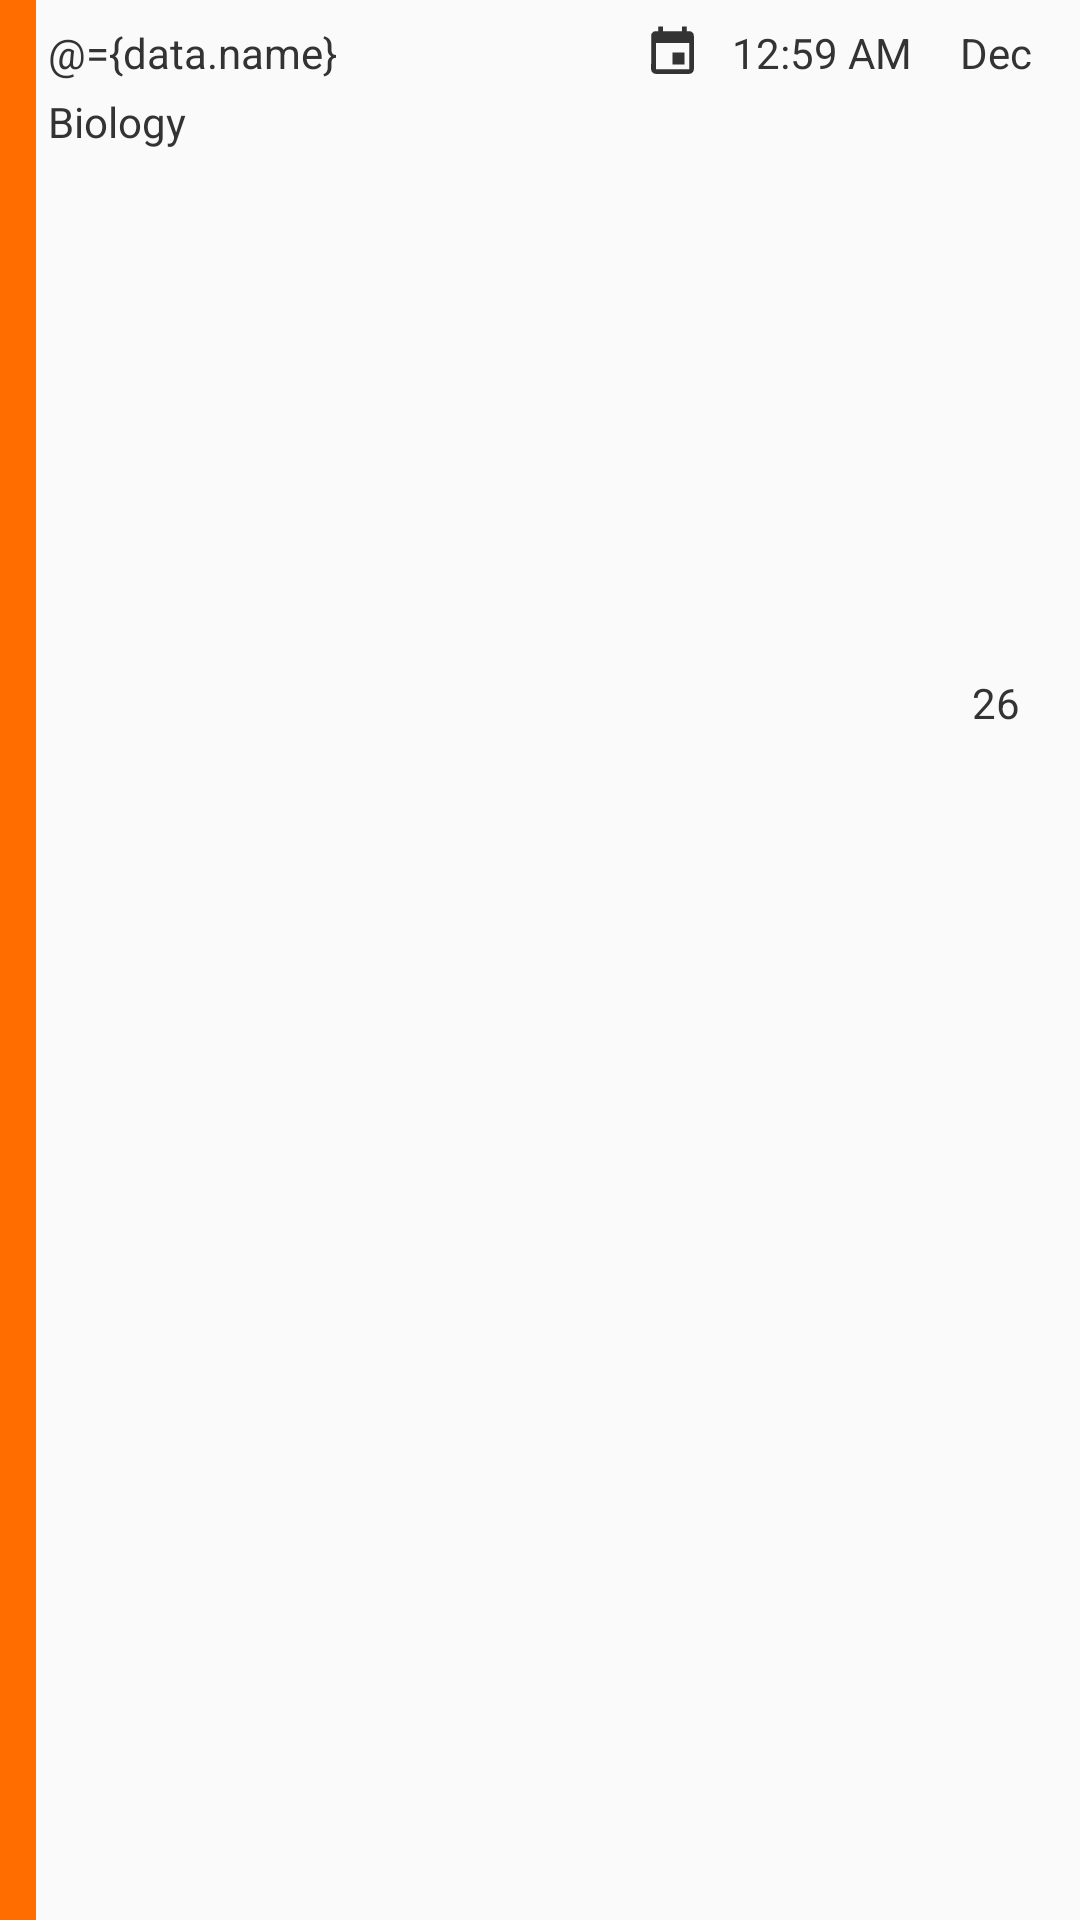

Point at icon controls on the screen. Image size 1080 x 1920, points as (x=x, y=y).
event: (x=672, y=50)
